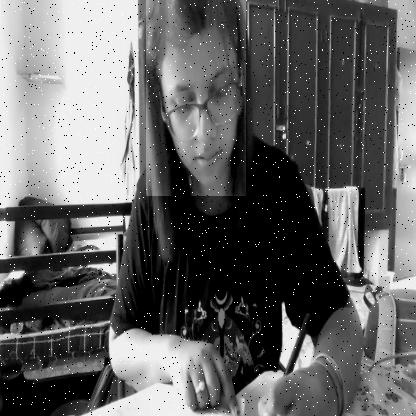Normal: (146, 0, 246, 196)
